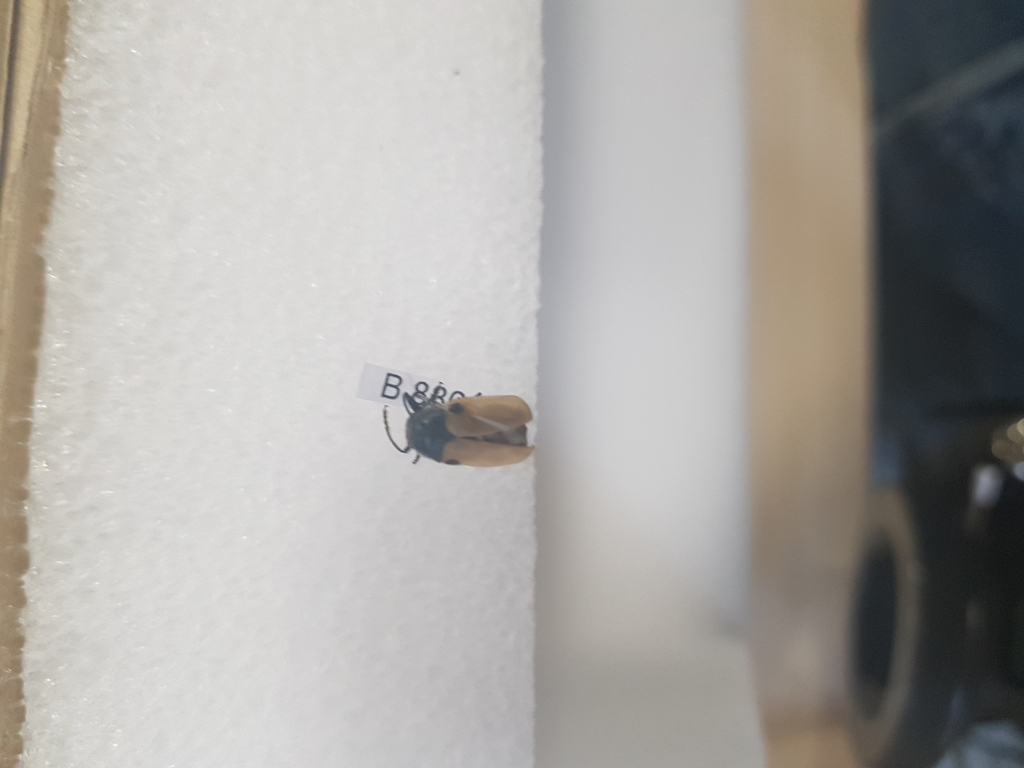Labidostomis_asiatica: (381, 389, 542, 477)
